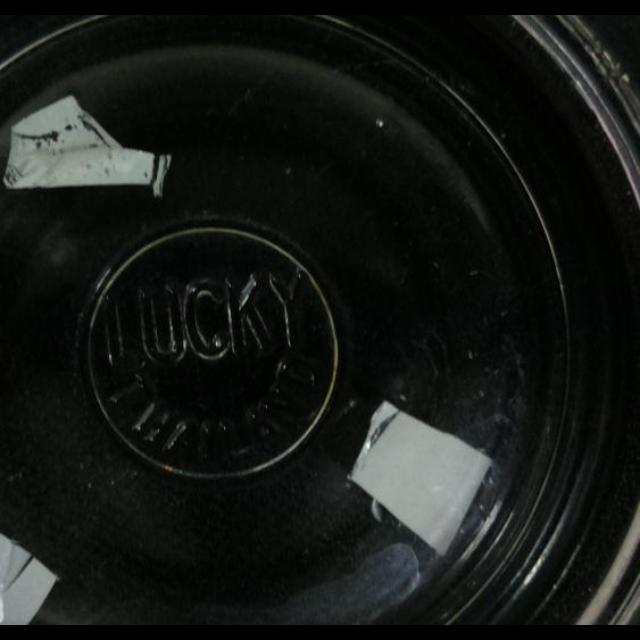Fragment: (348, 402, 496, 554), (3, 97, 165, 195), (1, 529, 62, 625)
